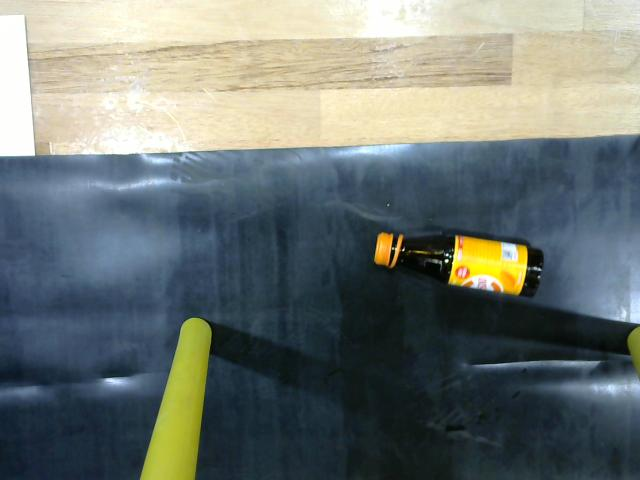glass: (375, 223, 546, 296)
